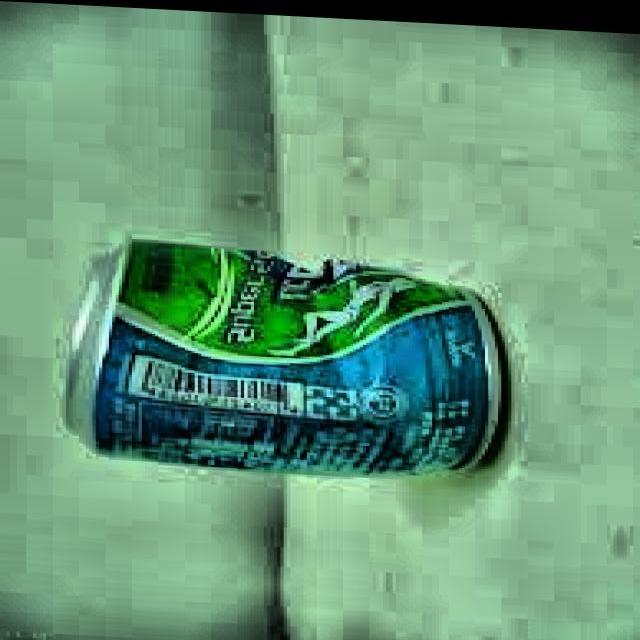litter: (44, 224, 526, 494)
